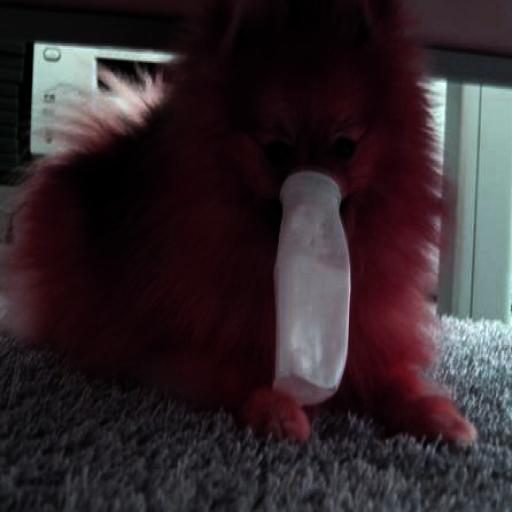dog_face: (198, 0, 384, 221)
